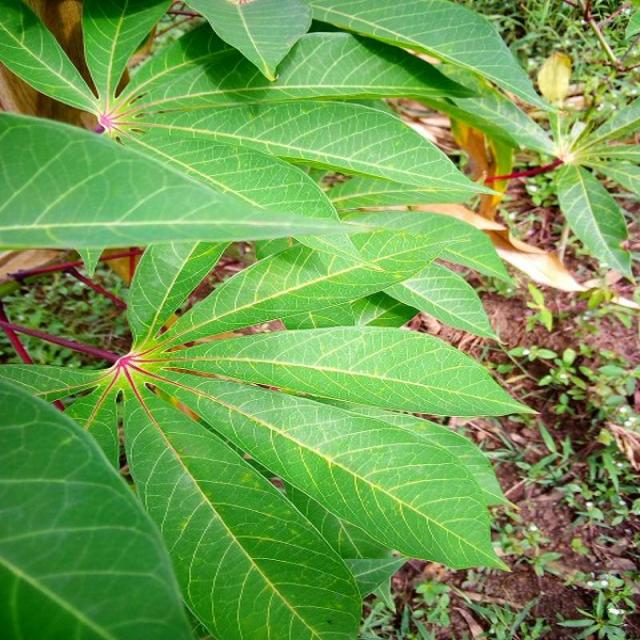cassava leaf: (0, 0, 553, 638), (120, 379, 364, 638), (0, 373, 194, 637)
